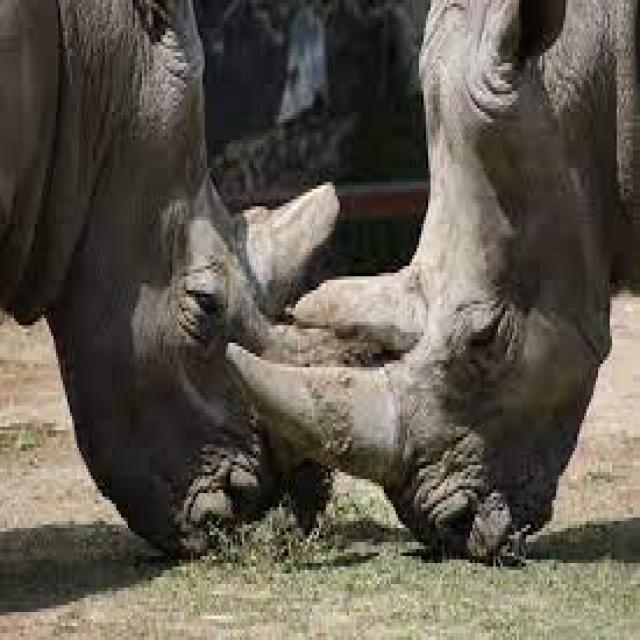Herbivorous: (223, 0, 640, 570)
